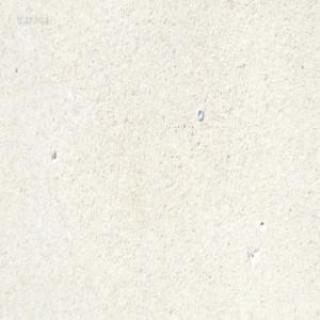Washertrack_idkeyframe: (196, 108, 203, 122)
